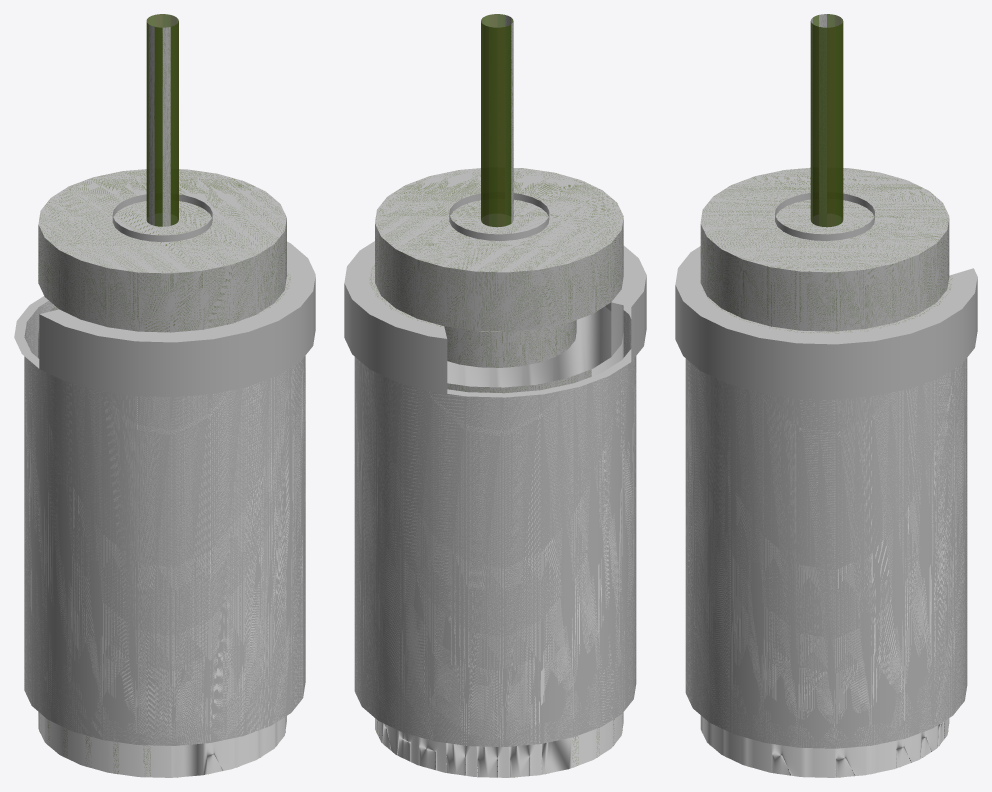
The picture shows the model from 3 angles, left to right: view 1: azimuth 30°, elevation 25°; view 2: azimuth 150°, elevation 25°; view 3: azimuth 270°, elevation 25°; orthographic projection.
Visible parts, largest first — view 1: mesh1_mesh1-geometry; view 2: mesh1_mesh1-geometry, mesh2_mesh2-geometry; view 3: mesh1_mesh1-geometry.
Boxes of the visible parts, left/top/right/bottom form: mesh1_mesh1-geometry: left=14, top=14, right=315, bottom=777; mesh1_mesh1-geometry: left=344, top=14, right=646, bottom=777; mesh2_mesh2-geometry: left=444, top=320, right=576, bottom=367; mesh1_mesh1-geometry: left=675, top=14, right=977, bottom=777.
Size of the model in its own units: 0.3405 by 0.8764 by 0.3405.
